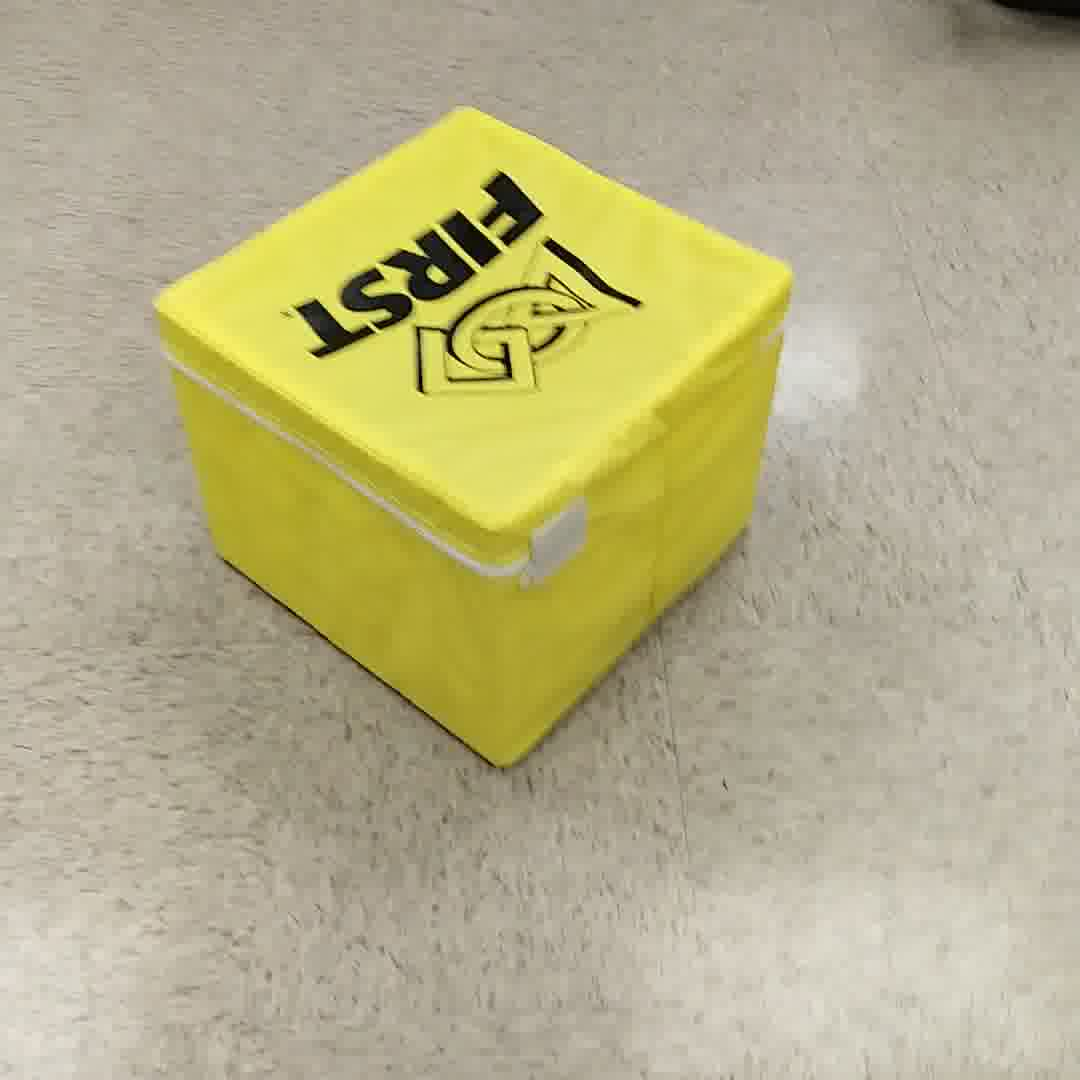box: (151, 85, 792, 761)
